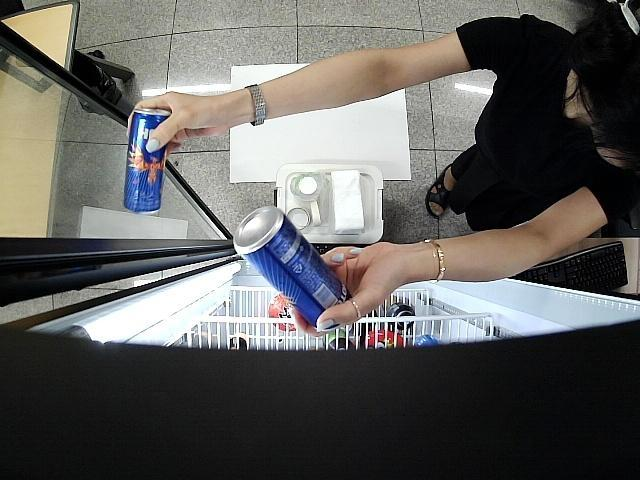16_hot6: (232, 206, 351, 330), (122, 107, 171, 216)
